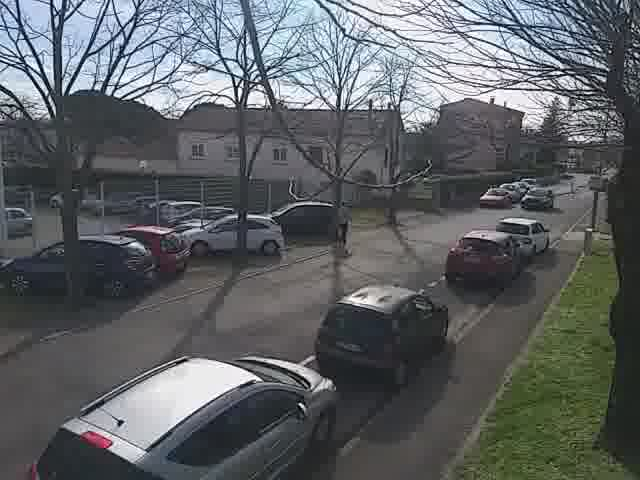persona: (332, 196, 353, 250)
